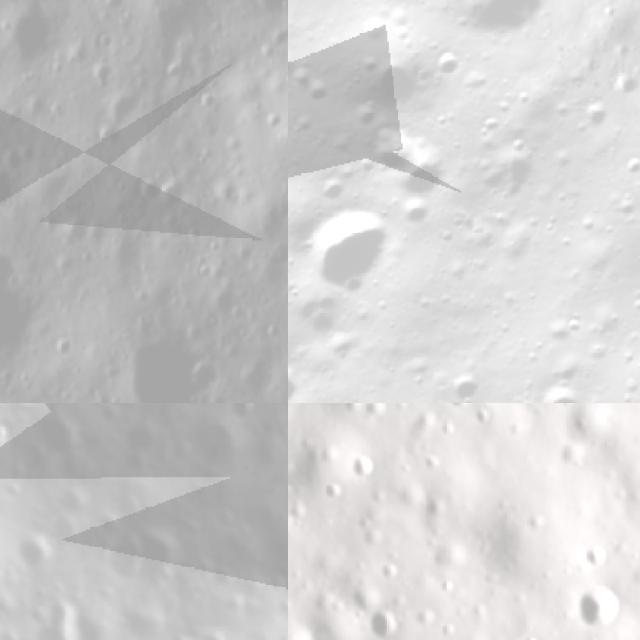crater: (288, 179, 418, 313), (351, 35, 439, 122), (471, 127, 548, 204), (359, 115, 434, 190), (288, 273, 355, 345), (94, 533, 148, 597), (574, 586, 627, 636), (466, 154, 516, 205), (439, 357, 493, 403), (534, 305, 584, 354), (423, 42, 472, 92), (13, 534, 64, 582), (526, 372, 595, 403), (540, 349, 585, 393), (573, 91, 617, 135), (541, 140, 583, 182), (297, 73, 336, 112), (288, 343, 313, 403), (354, 607, 398, 640), (56, 491, 96, 527), (24, 617, 83, 640), (470, 107, 506, 143), (211, 507, 248, 541), (222, 403, 263, 433), (610, 191, 640, 225), (93, 403, 128, 431), (0, 253, 17, 310), (614, 147, 640, 182), (350, 450, 376, 482), (585, 544, 613, 570), (288, 42, 304, 87), (39, 403, 85, 418), (320, 478, 347, 502), (0, 166, 17, 195), (193, 629, 237, 640), (453, 403, 474, 414), (418, 0, 453, 5)
